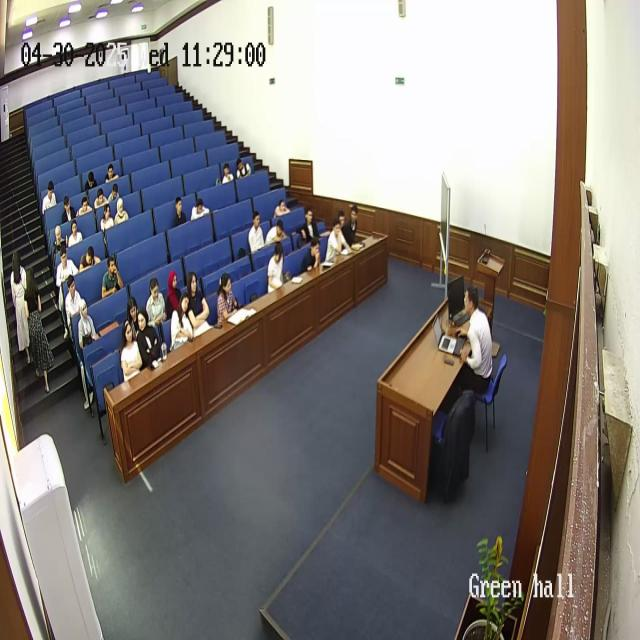person: (458, 287, 494, 397), (22, 273, 54, 392), (75, 296, 99, 408), (10, 258, 30, 356), (133, 307, 161, 369), (185, 271, 212, 333), (64, 276, 88, 344), (120, 319, 144, 382), (55, 244, 78, 306), (171, 292, 194, 350), (146, 277, 168, 331), (216, 273, 238, 324), (267, 244, 289, 294), (100, 255, 124, 300), (325, 219, 350, 261), (165, 270, 183, 323), (300, 238, 322, 276), (343, 206, 363, 246), (298, 207, 320, 243), (248, 212, 266, 254), (126, 294, 142, 337), (79, 243, 101, 273), (100, 203, 116, 241), (266, 221, 288, 247), (66, 218, 83, 250), (41, 180, 57, 214), (172, 195, 188, 228), (190, 194, 210, 220), (76, 191, 94, 218), (114, 199, 130, 227), (54, 225, 68, 257), (61, 196, 76, 224), (274, 197, 290, 218), (236, 156, 252, 177), (84, 170, 98, 193), (94, 187, 108, 209), (220, 163, 234, 184), (105, 164, 119, 184), (108, 180, 120, 202)
